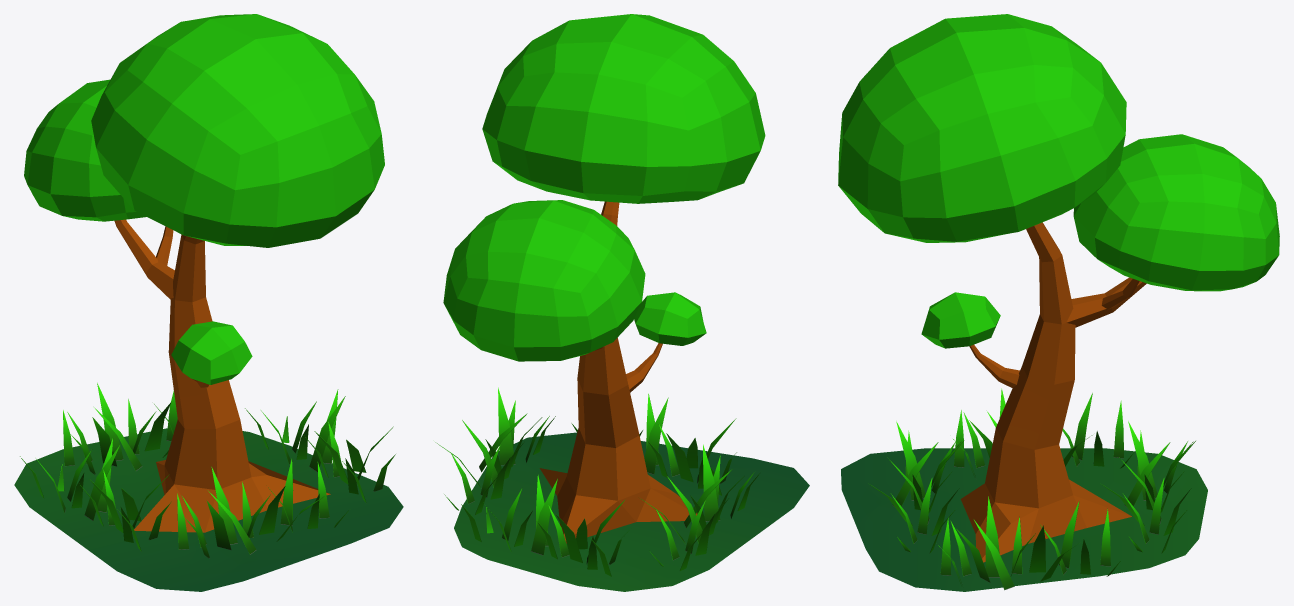
File: Tree1.glb
3 renders of one model, left to right at view 1: azimuth 30°, elevation 25°; view 2: azimuth 150°, elevation 25°; view 3: azimuth 270°, elevation 25°, orthographic. The views are drawn at different scales.
Visible parts, largest first — view 1: Tree1; view 2: Tree1; view 3: Tree1.
Part boxes in pixels (bbox=[...]): Tree1: bbox=[14, 14, 403, 591]; Tree1: bbox=[435, 14, 809, 591]; Tree1: bbox=[838, 14, 1279, 591].
Size of the model in its own units: 0.9575 by 1.48 by 1.2.
2 materials, 2 textured.
